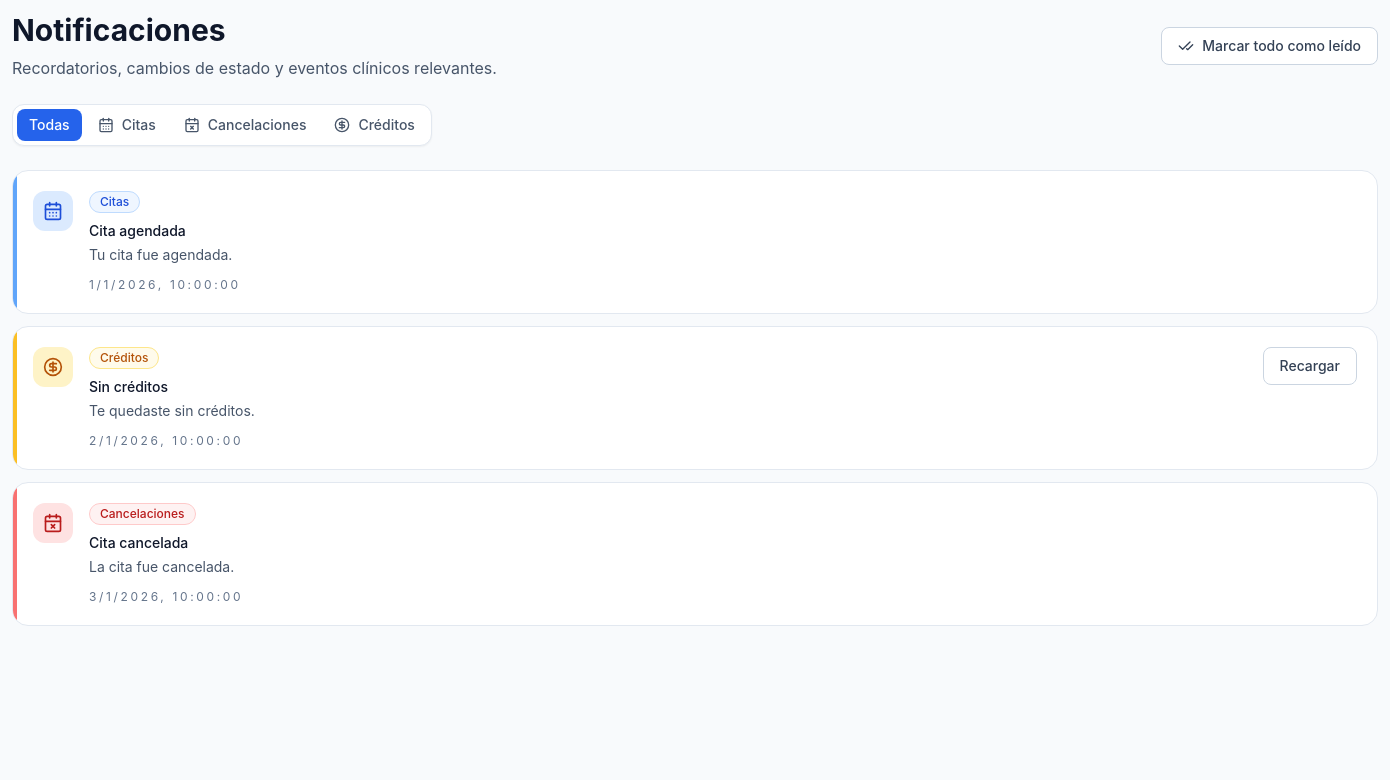
NotificationsPage › filtra las notificaciones por categoría
The image size is (1390, 780).
What coordinates should you click on to do the following:
click the tab "Cancelaciones"
I would click on:
 (245, 125)
Its box is [172,109,318,141].
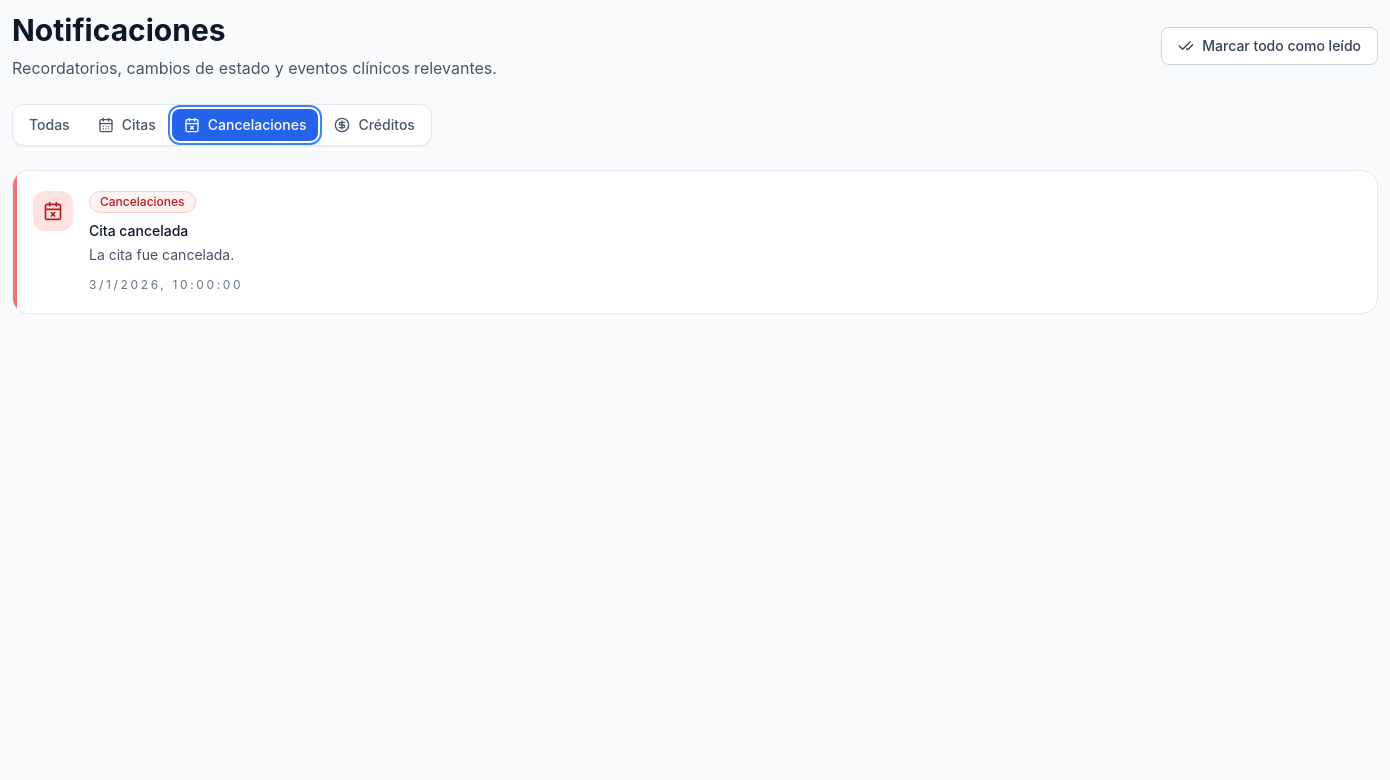
Expected: the text "Cita cancelada" is shown, [89,222,188,239]
Result: the text "Cita agendada" is gone
Result: the text "Sin créditos" is gone
